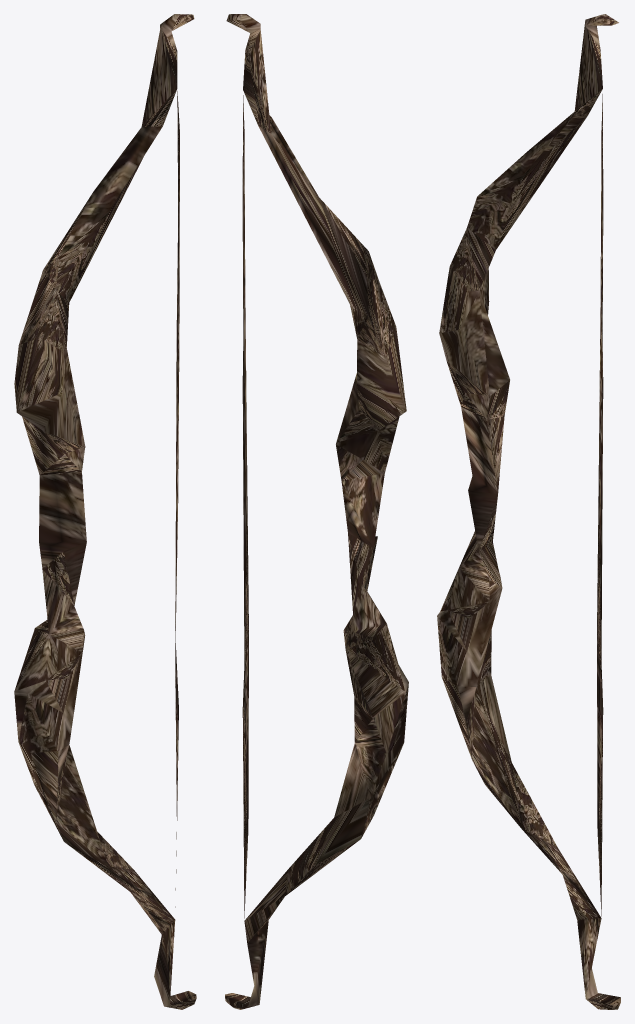
Rendered from ae_bow_lod0.glb.
3 views of the same model, side by side, from view 1: azimuth 30°, elevation 25°; view 2: azimuth 150°, elevation 25°; view 3: azimuth 330°, elevation 25° (orthographic).
Size of the model in its own units: 0.363 by 1.9 by 0.0919.
Materials: 1 (1 with a texture image).
